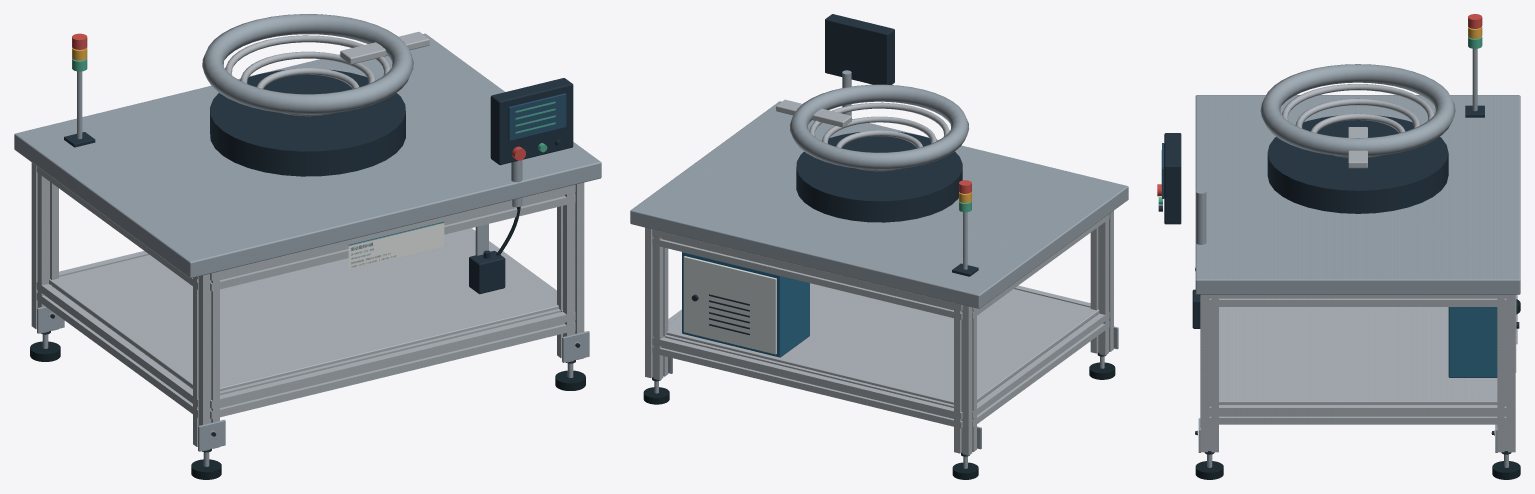
The model's file is vibratory-bowl-cell.glb.
3 views of the same model, side by side, from view 1: azimuth 30°, elevation 25°; view 2: azimuth 150°, elevation 25°; view 3: azimuth 270°, elevation 25° (orthographic). The views are drawn at different scales.
Parts seen in each view (by area): view 1: ClosedMachineBed_40, LowerShelf_41, BowlBase_71, SlottedExtrusion_34, BowlWall_72, SlottedExtrusion_35, SlottedExtrusion_11, SlottedExtrusion_36, ConsoleBack_52, SlottedExtrusion_27, SlottedExtrusion_3, OriginalNameplate_65 (+9 smaller); view 2: ClosedMachineBed_40, LowerShelf_41, BowlBase_71, BackDoor_43, SlottedExtrusion_32, BowlWall_72, SlottedExtrusion_33, ConsoleBack_52, SlottedExtrusion_3, SlottedExtrusion_19, Cabinet_42, SlottedExtrusion_36 (+6 smaller); view 3: ClosedMachineBed_40, LowerShelf_41, BowlBase_71, BowlWall_72, SlottedExtrusion_38, SlottedExtrusion_39, Cabinet_42, SlottedExtrusion_27, SlottedExtrusion_19, ConsoleBack_52, SpiralTrack_75, SpiralTrack_74 (+5 smaller).
Part boxes in pixels (x1,y1,x2,y2): ClosedMachineBed_40: (14, 33, 601, 278); LowerShelf_41: (49, 229, 558, 391); BowlBase_71: (210, 70, 405, 176); SlottedExtrusion_34: (210, 309, 575, 419); BowlWall_72: (202, 14, 413, 114); SlottedExtrusion_35: (210, 184, 575, 291); SlottedExtrusion_11: (193, 271, 219, 451); SlottedExtrusion_36: (36, 282, 198, 417); ConsoleBack_52: (490, 78, 573, 165); SlottedExtrusion_27: (557, 182, 584, 362); SlottedExtrusion_3: (31, 162, 58, 333); OriginalNameplate_65: (348, 221, 444, 269); ClosedMachineBed_40: (630, 101, 1128, 308); LowerShelf_41: (666, 283, 1099, 404); BowlBase_71: (796, 132, 962, 222); BackDoor_43: (683, 256, 776, 354); SlottedExtrusion_32: (652, 334, 962, 428); BowlWall_72: (789, 84, 968, 169); SlottedExtrusion_33: (652, 229, 962, 319); ConsoleBack_52: (825, 14, 894, 84); SlottedExtrusion_3: (954, 303, 976, 455); SlottedExtrusion_19: (645, 227, 668, 380); Cabinet_42: (682, 252, 809, 357); SlottedExtrusion_36: (972, 312, 1109, 427); ClosedMachineBed_40: (1195, 95, 1520, 294); LowerShelf_41: (1219, 307, 1497, 404); BowlBase_71: (1267, 115, 1448, 213); BowlWall_72: (1260, 64, 1455, 156); SlottedExtrusion_38: (1209, 405, 1506, 424); SlottedExtrusion_39: (1209, 294, 1506, 306); Cabinet_42: (1448, 307, 1497, 377); SlottedExtrusion_27: (1200, 294, 1218, 452); SlottedExtrusion_19: (1497, 294, 1515, 452); ConsoleBack_52: (1164, 133, 1181, 224); SpiralTrack_75: (1282, 84, 1434, 120); SpiralTrack_74: (1295, 98, 1420, 128).
Size of the model in its own units: 1.55 by 1.18 by 1.29.
Materials: 11 (3 with a texture image).
